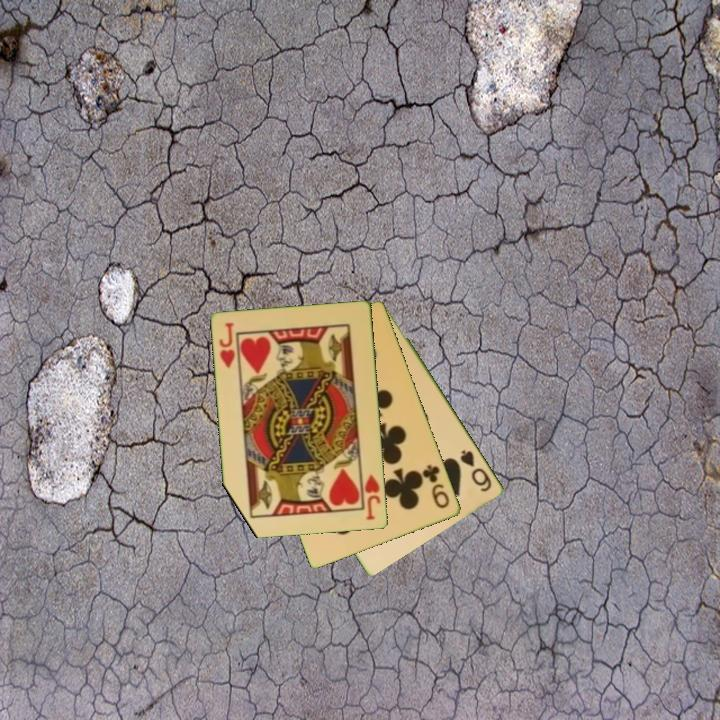6s: (457, 446, 495, 495)
9c: (419, 461, 453, 512)
Jh: (357, 467, 384, 523), (216, 319, 238, 372)
